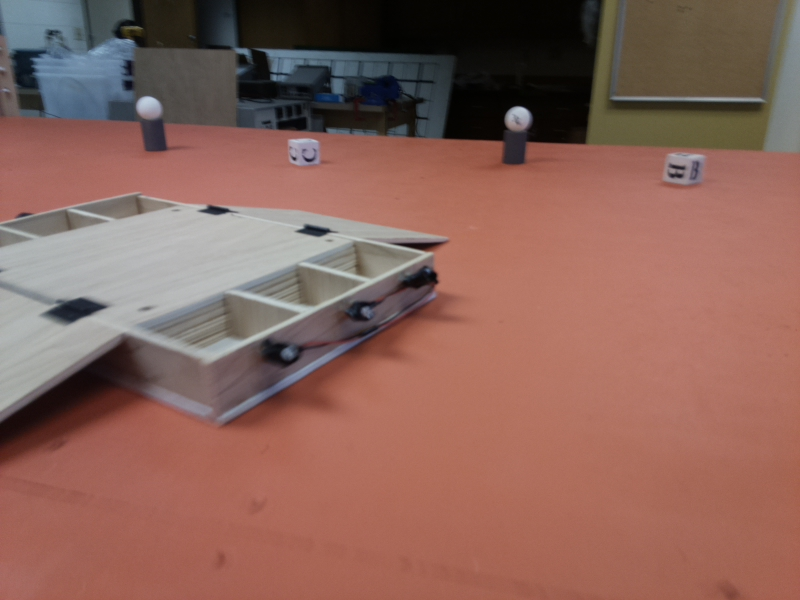blockB: (663, 143, 709, 191)
blockC: (283, 138, 324, 166)
obstacle: (498, 102, 533, 168), (132, 96, 168, 154)
side: (204, 255, 451, 411)
slope: (1, 296, 126, 457)
